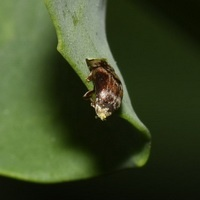insect: (83, 58, 122, 119)
